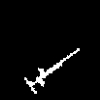double_crochet: (25, 48, 78, 93)
